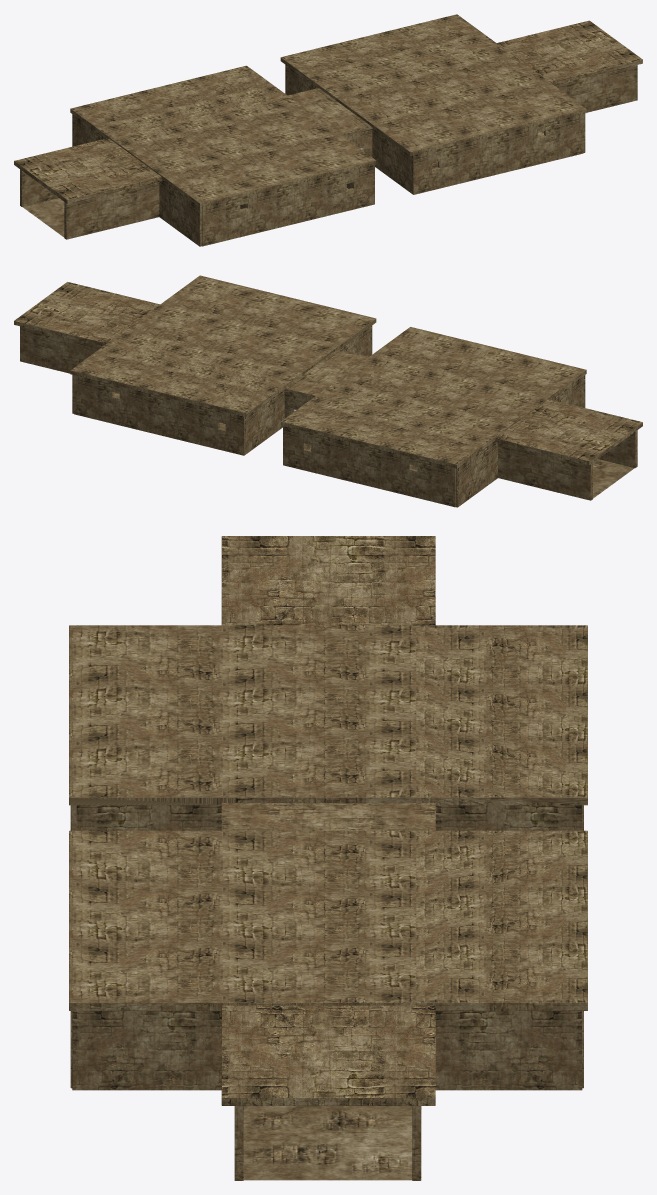
File: jianyu.FBX
3 renders of one model, top to bottom at view 1: azimuth 30°, elevation 25°; view 2: azimuth 150°, elevation 25°; view 3: azimuth 270°, elevation 25°, orthographic. The views are drawn at different scales.
Parts seen in each view (by area): view 1: wuding001, jz01, Object002; view 2: wuding001, jz01, Object002; view 3: wuding001, jz01, Object002.
Part boxes in pixels (x1,y1,x2,y2): wuding001: (14,14,642,207); jz01: (20,65,637,246); Object002: (23,131,543,237); wuding001: (14,275,642,468); jz01: (20,325,637,507); Object002: (113,392,634,498); wuding001: (69,536,587,1105); jz01: (70,805,583,1180); Object002: (243,1106,412,1180).
Size of the model in its own units: 3973 by 291 by 1550.
